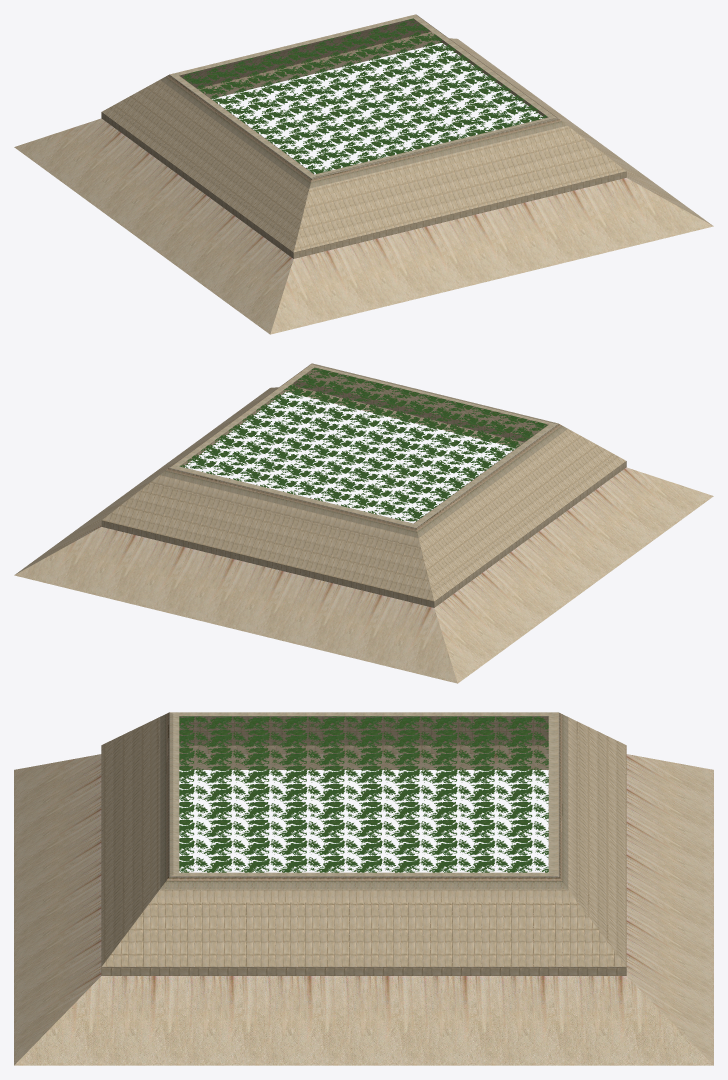
The model's file is ply_nboo_garden_sml_s01_l1.fbx.
3 renders of one model, top to bottom at view 1: azimuth 30°, elevation 25°; view 2: azimuth 150°, elevation 25°; view 3: azimuth 270°, elevation 25°, orthographic. The views are drawn at different scales.
Visible parts, largest first — view 1: mesh_node; view 2: mesh_node; view 3: mesh_node.
Boxes of the visible parts, box(x1,y1,x2,y2) form: mesh_node: box(14, 14, 713, 334); mesh_node: box(14, 363, 713, 683); mesh_node: box(14, 712, 713, 1065).
Size of the model in its own units: 18 by 3.5 by 18.
